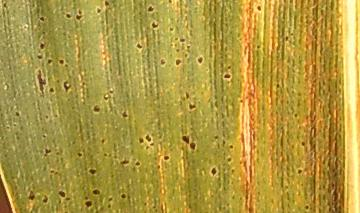tarspot: (34, 68, 48, 98), (329, 178, 338, 203), (62, 78, 72, 93), (75, 8, 84, 24), (42, 147, 52, 159), (149, 20, 160, 30), (180, 133, 190, 144), (56, 188, 67, 198), (87, 166, 97, 176), (120, 109, 129, 120), (144, 131, 152, 143), (91, 187, 101, 196), (188, 141, 197, 151), (186, 102, 196, 111), (120, 157, 130, 166), (41, 194, 49, 205), (222, 72, 231, 81), (134, 42, 143, 51), (146, 4, 155, 13), (84, 200, 93, 209), (162, 154, 171, 163), (119, 191, 128, 200), (210, 166, 218, 176), (36, 51, 44, 61), (102, 92, 110, 102), (28, 190, 35, 201), (92, 104, 100, 113), (196, 54, 203, 64), (38, 41, 45, 51), (95, 6, 102, 16), (300, 138, 307, 148), (184, 90, 191, 100), (293, 111, 299, 122), (158, 58, 166, 66), (47, 86, 55, 94), (99, 137, 107, 145), (303, 203, 310, 212), (174, 58, 181, 67), (45, 58, 54, 65), (57, 58, 66, 65), (64, 12, 71, 21), (255, 42, 262, 51), (226, 155, 233, 164), (221, 139, 228, 148), (138, 135, 144, 145), (215, 140, 221, 150), (296, 168, 304, 175), (256, 4, 263, 12), (133, 160, 141, 167), (76, 151, 83, 159), (178, 37, 186, 44), (226, 63, 233, 71), (167, 26, 176, 32), (185, 44, 191, 53), (103, 1, 110, 8), (38, 15, 44, 23), (108, 86, 114, 94), (229, 143, 235, 151), (213, 133, 219, 141), (284, 34, 289, 43), (14, 110, 20, 117), (102, 152, 108, 159), (106, 203, 112, 210), (107, 195, 113, 202), (174, 47, 180, 54), (2, 2, 8, 9), (275, 82, 280, 90), (42, 132, 46, 140), (167, 1, 173, 4)
